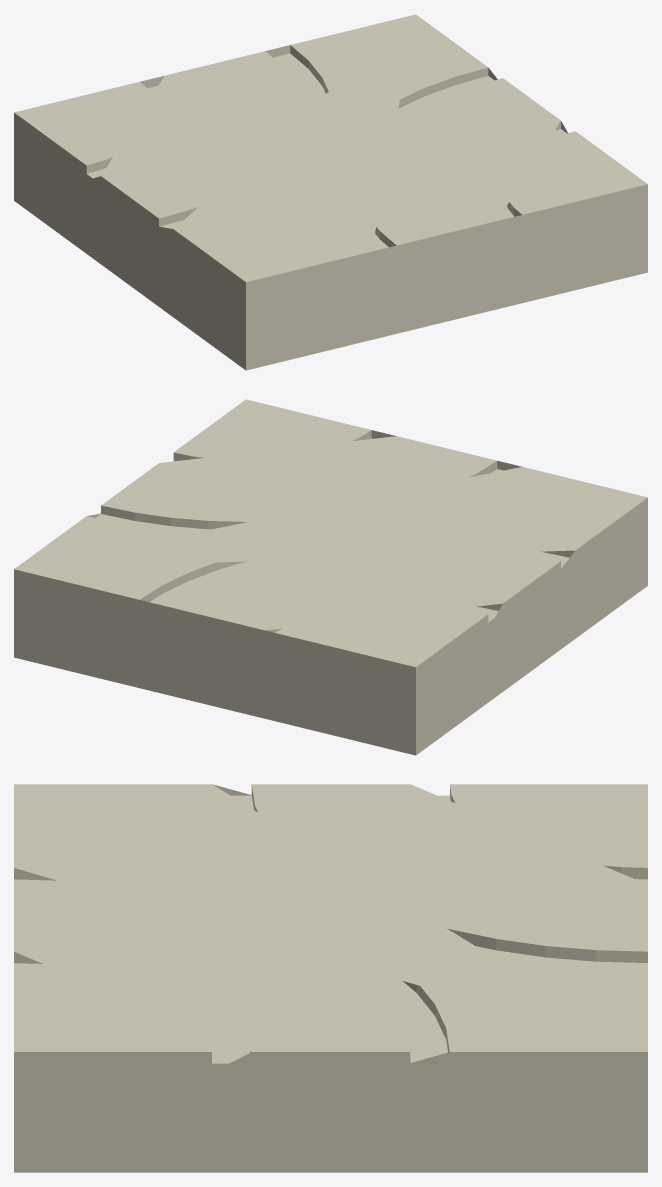
File: roadtile_088.glb
3 views of the same model, one above another, from view 1: azimuth 30°, elevation 25°; view 2: azimuth 150°, elevation 25°; view 3: azimuth 270°, elevation 25° (orthographic). The views are drawn at different scales.
Parts seen in each view (by area): view 1: Mesh1 Group1 Model; view 2: Mesh1 Group1 Model; view 3: Mesh1 Group1 Model.
Part boxes in pixels (bbox=[...]): Mesh1 Group1 Model: bbox=[14, 14, 647, 370]; Mesh1 Group1 Model: bbox=[14, 399, 647, 755]; Mesh1 Group1 Model: bbox=[14, 784, 647, 1172].
Size of the model in its own units: 3 by 0.63 by 3.
